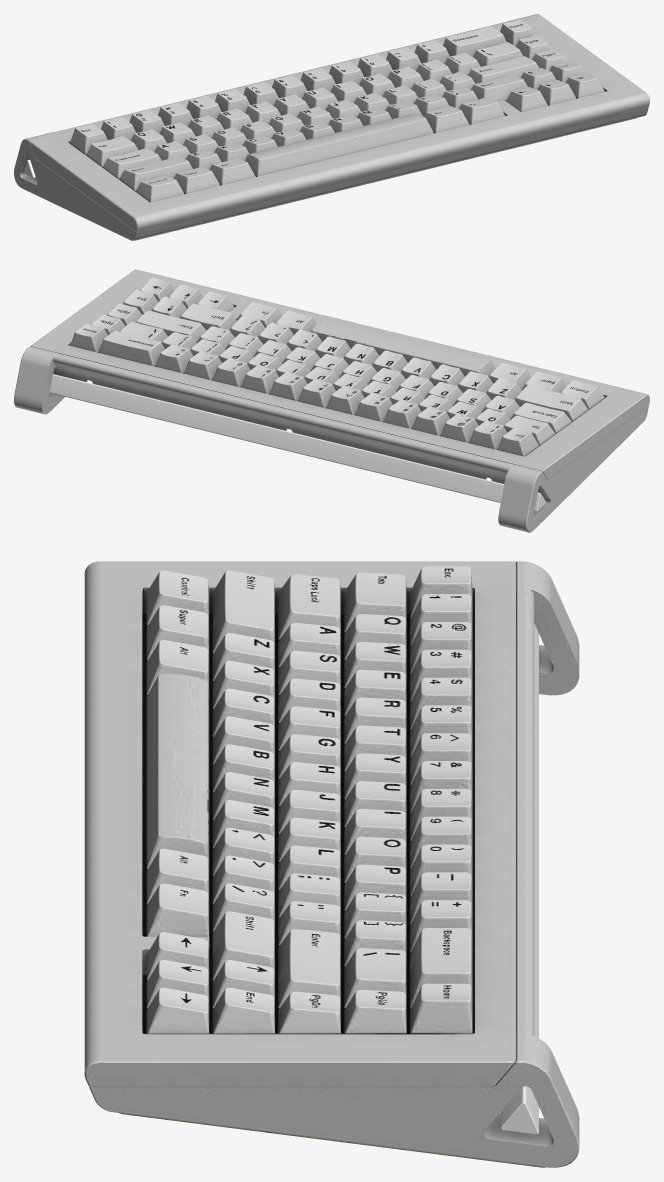
Rendered from vercel-keyboard-web-transformed.glb.
3 views of the same model, one above another, from view 1: azimuth 30°, elevation 25°; view 2: azimuth 150°, elevation 25°; view 3: azimuth 270°, elevation 25° (orthographic). The views are drawn at different scales.
Visible parts, largest first — view 1: Body.001, Vercel 65 Caps.002, space, backspace, shiftl, enter, shiftr, caps, control, tab, fn, altl (+48 smaller); view 2: Body.001, Accent.006, Vercel 65 Caps.002, space, backspace, shiftl, enter, shiftr, caps, esc, tab, minus (+48 smaller); view 3: Body.001, Vercel 65 Caps.002, space, enter, shiftl, backspace, Accent.006, caps, shiftr, home, fn, tab (+48 smaller).
Boxes of the visible parts, x1,y1,x2,y2 form: Body.001: [14, 14, 649, 240]; Vercel 65 Caps.002: [101, 54, 392, 140]; space: [245, 113, 433, 176]; backspace: [443, 26, 506, 56]; shiftl: [119, 156, 192, 190]; enter: [468, 56, 539, 83]; shiftr: [471, 75, 527, 101]; caps: [103, 148, 161, 178]; control: [136, 175, 184, 202]; tab: [86, 136, 138, 166]; fn: [459, 97, 504, 124]; altl: [209, 158, 255, 185]; Body.001: [14, 269, 649, 532]; Accent.006: [49, 374, 545, 511]; Vercel 65 Caps.002: [212, 358, 506, 449]; space: [311, 318, 495, 376]; backspace: [98, 330, 164, 366]; shiftl: [514, 385, 588, 421]; enter: [135, 310, 206, 342]; shiftr: [180, 303, 236, 330]; caps: [510, 402, 571, 432]; esc: [498, 428, 538, 456]; tab: [504, 415, 555, 445]; minus: [184, 351, 221, 380]; Body.001: [84, 561, 579, 1167]; Vercel 65 Caps.002: [410, 594, 472, 896]; space: [146, 673, 209, 868]; enter: [278, 929, 340, 1008]; shiftl: [212, 570, 274, 653]; backspace: [410, 928, 472, 1007]; Accent.006: [500, 623, 538, 1134]; caps: [278, 574, 340, 639]; shiftr: [212, 911, 274, 980]; home: [410, 983, 472, 1033]; fn: [146, 883, 209, 936]; tab: [344, 572, 406, 632].
Size of the model in its own units: 0.3429 by 0.044 by 0.1431.
Materials: 4 (3 with a texture image).
